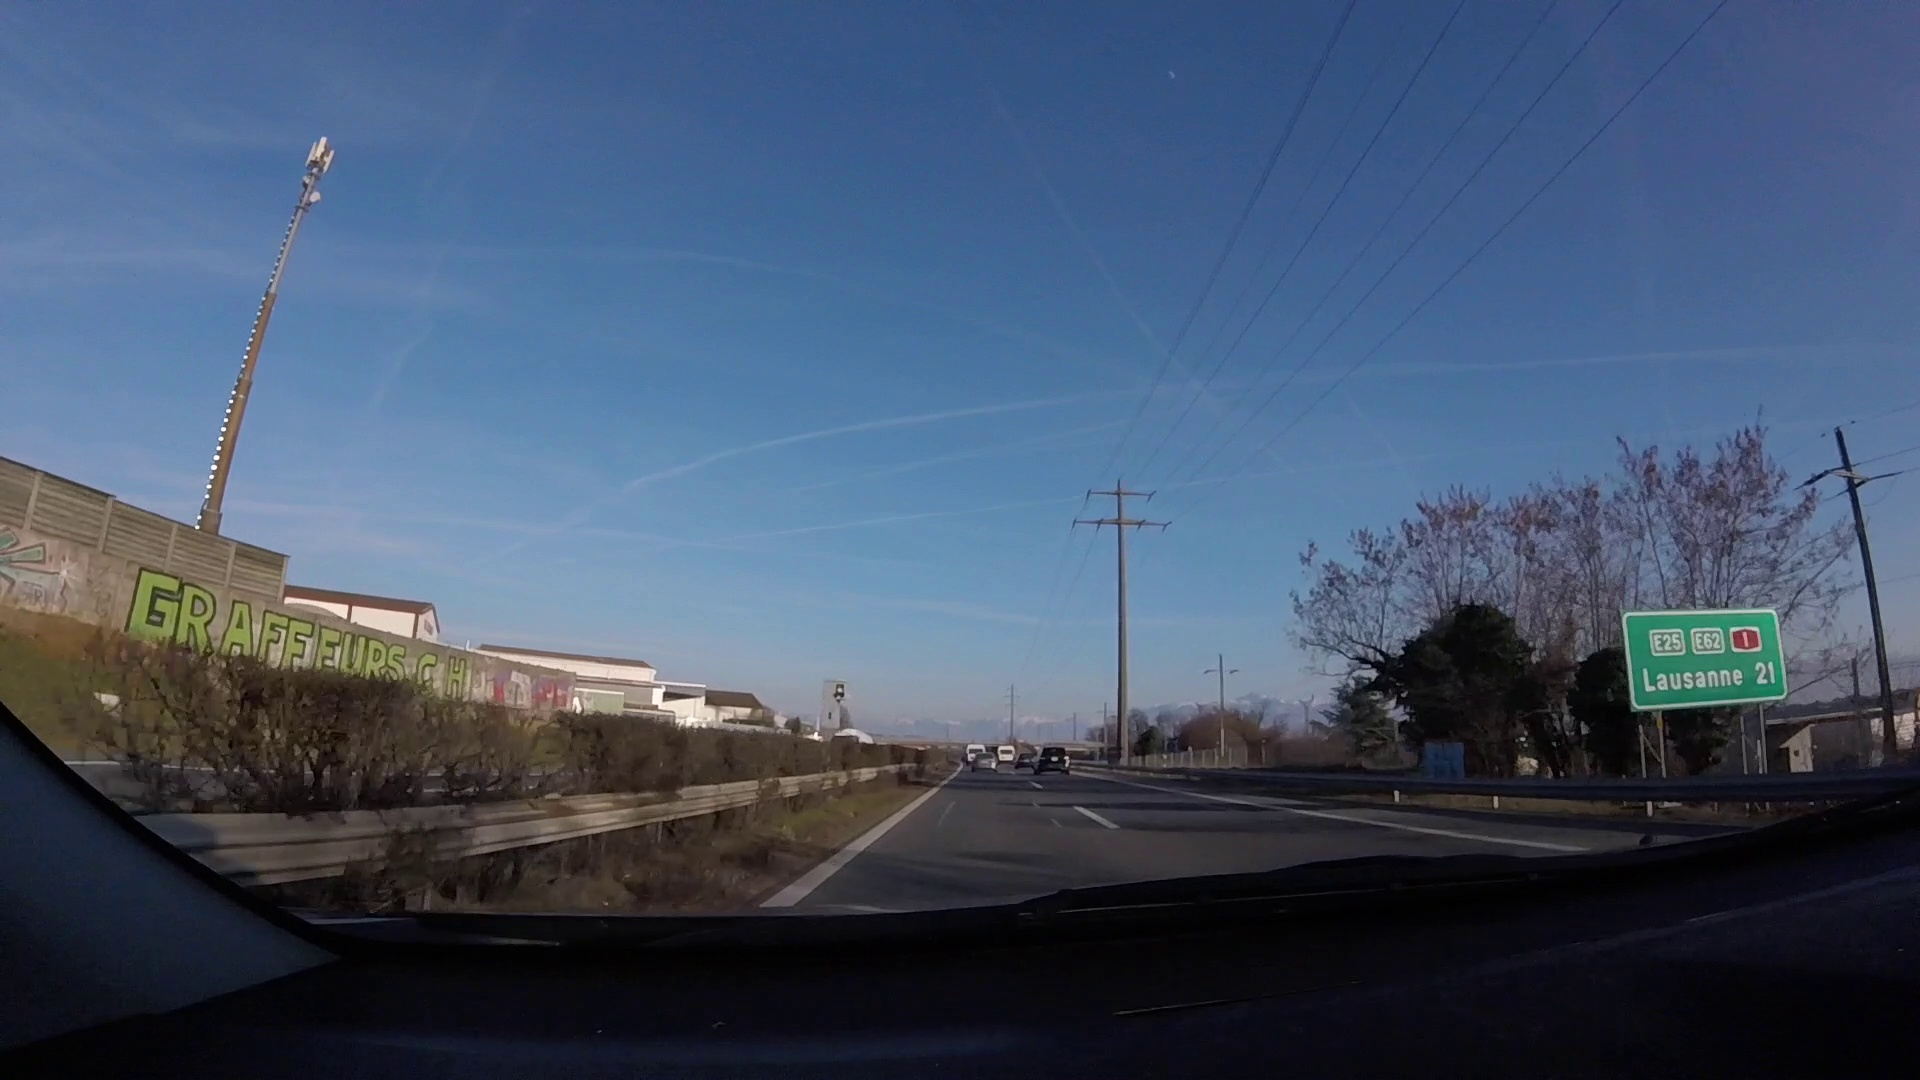radar: (818, 676, 853, 746)
